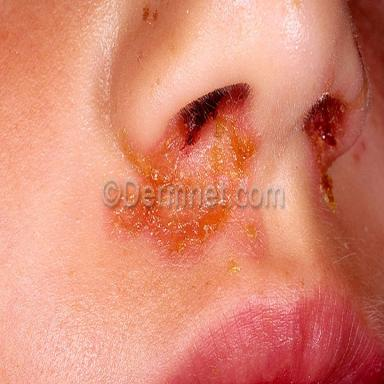Impetigo: (106, 205, 265, 277), (120, 106, 261, 184), (304, 94, 345, 211)
